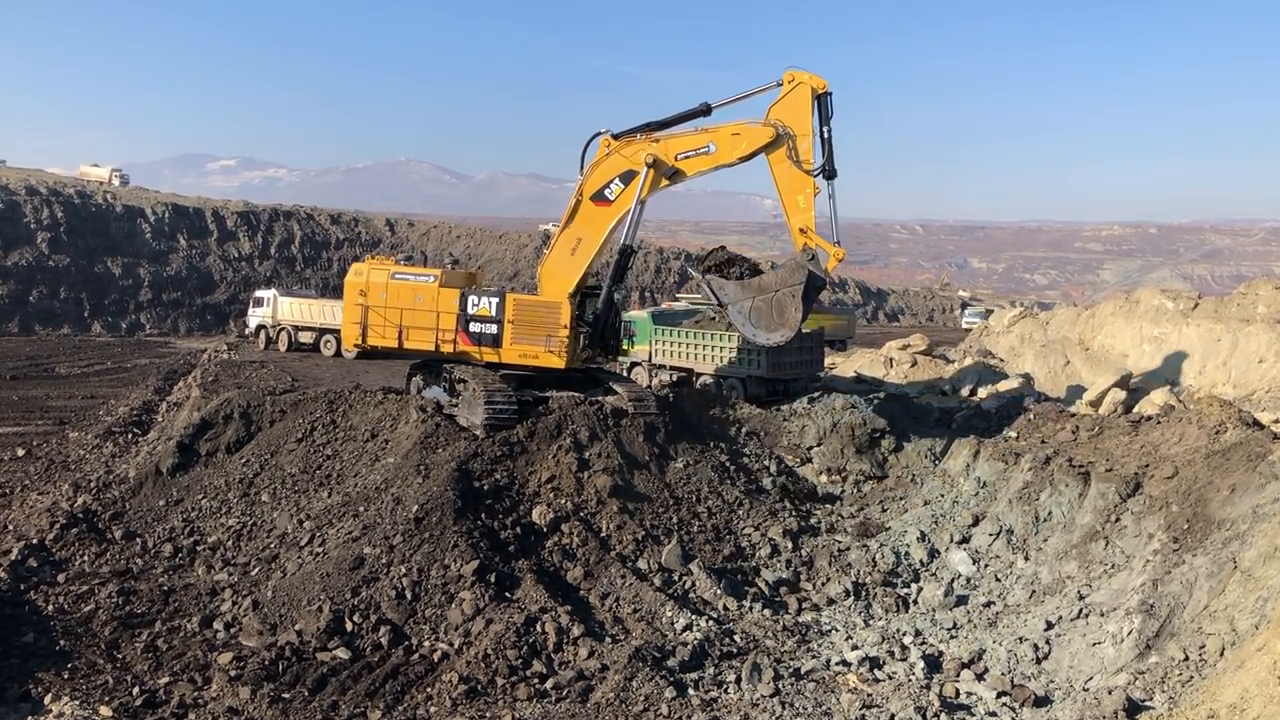full: (683, 243, 837, 351)
